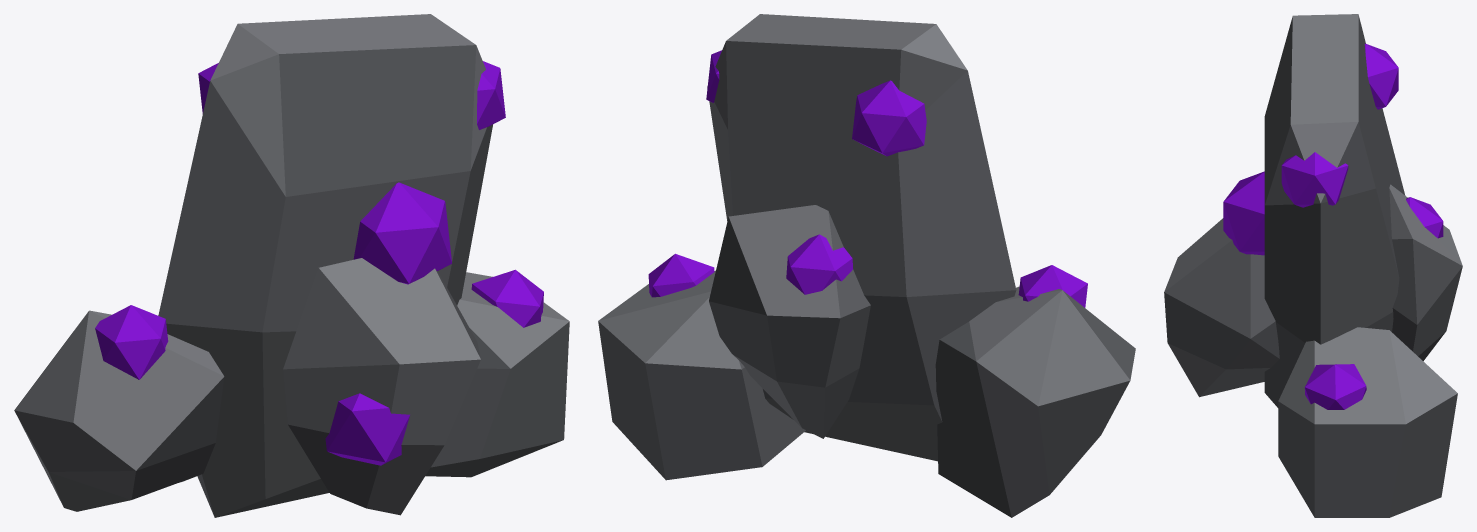
Rendered from Magnatite Ore.fbx.
3 views of the same model, side by side, from view 1: azimuth 30°, elevation 25°; view 2: azimuth 150°, elevation 25°; view 3: azimuth 270°, elevation 25° (orthographic). The views are drawn at different scales.
Visible parts, largest first — view 1: Cube.007; view 2: Cube.007; view 3: Cube.007.
Boxes of the visible parts, box(x1,y1,x2,y2) form: Cube.007: box(14, 14, 569, 517); Cube.007: box(598, 14, 1135, 517); Cube.007: box(1164, 14, 1462, 517).
Bounding box in the file's own units: 89.04 × 76.52 × 51.81.
